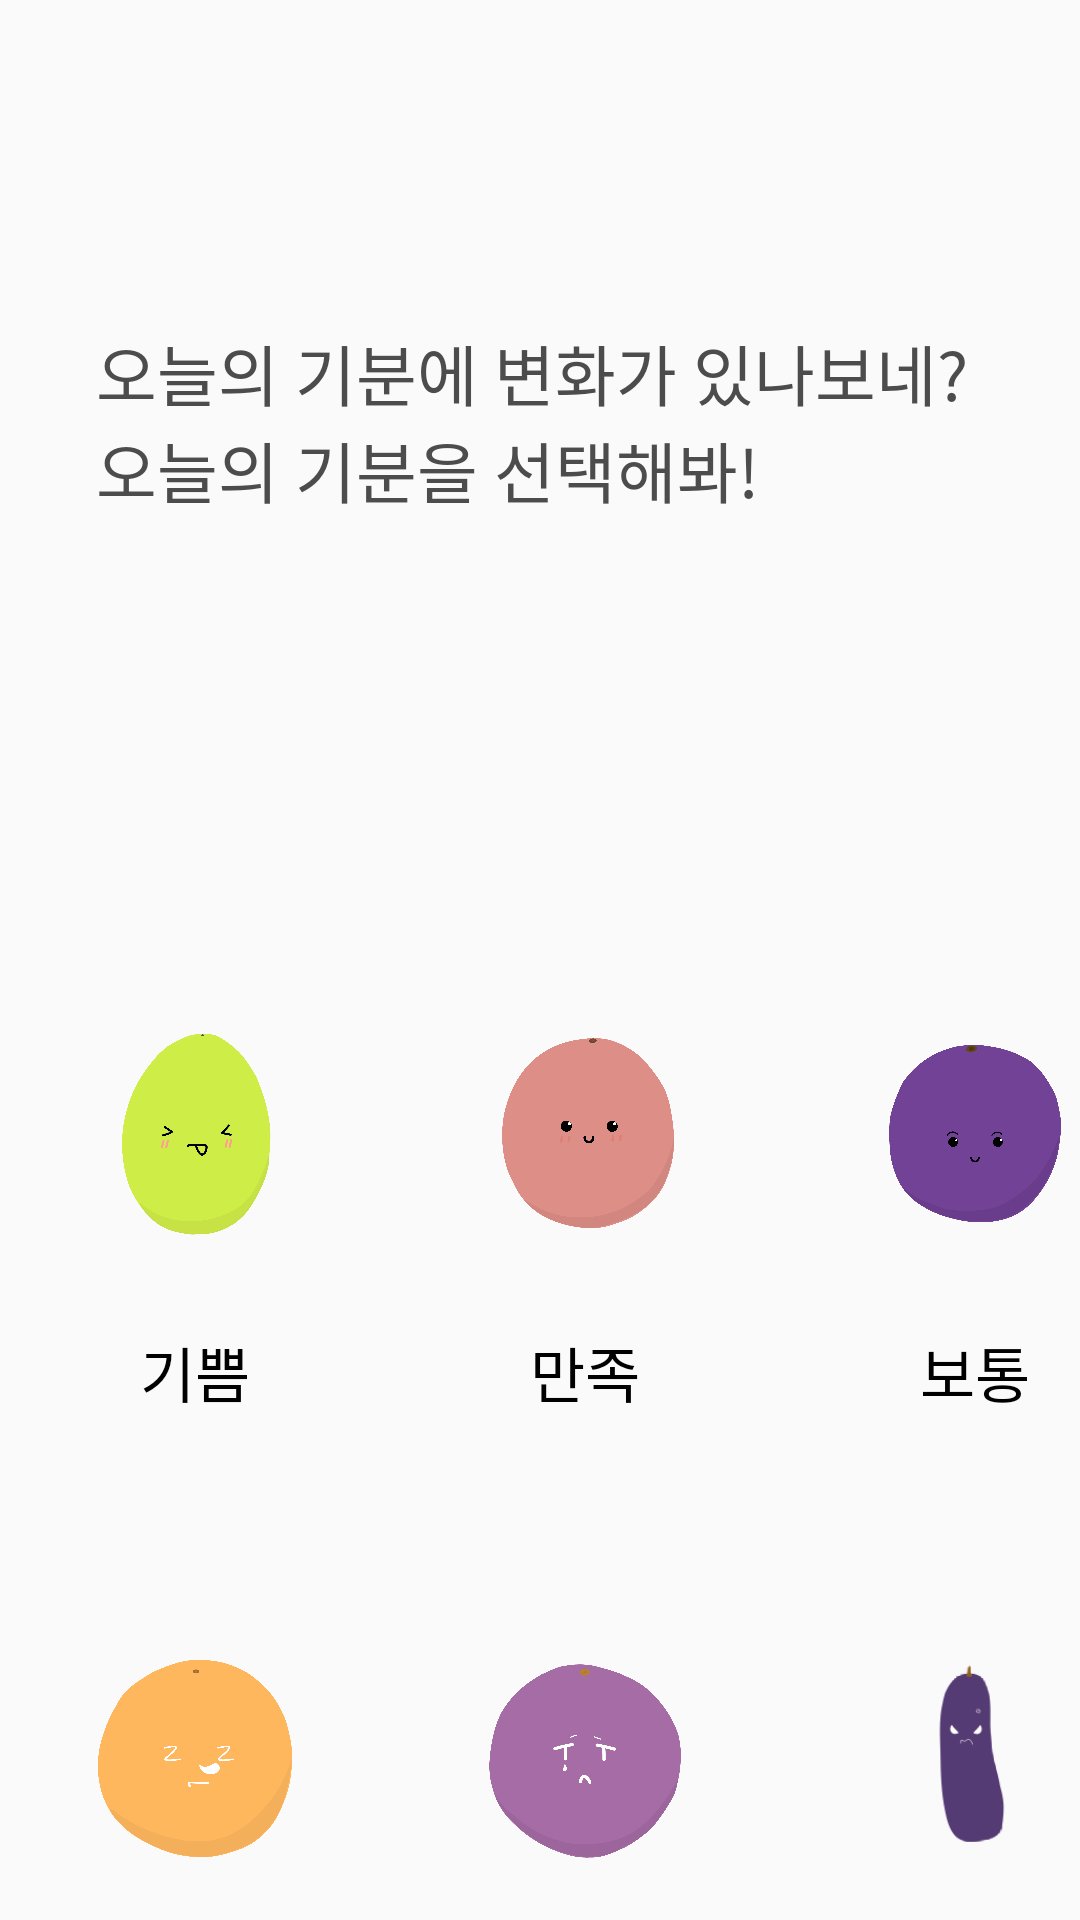

Screen size 1080px×1920px. Icon name, then its center in pixels as point (x, y):
grape happy: point (196, 1134)
grape sad: point (585, 1761)
grape satis: point (588, 1133)
grape usual: point (975, 1133)
